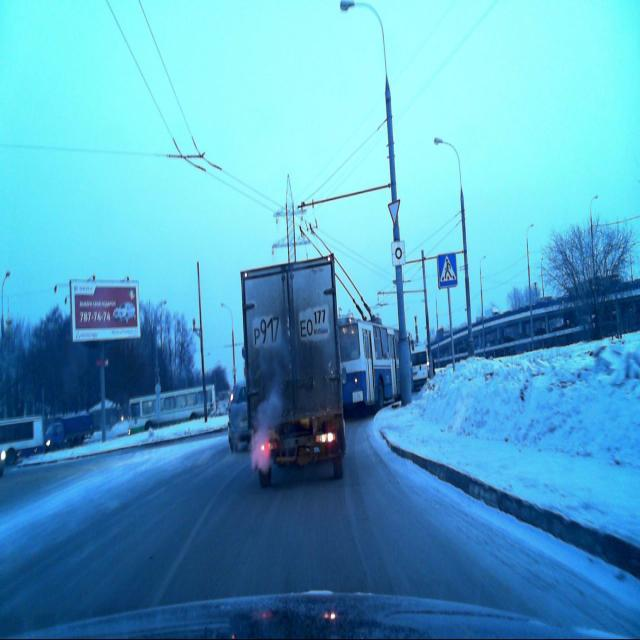object: (449, 289, 457, 372)
road sign: (436, 251, 458, 288), (390, 241, 406, 267), (388, 198, 401, 225)
